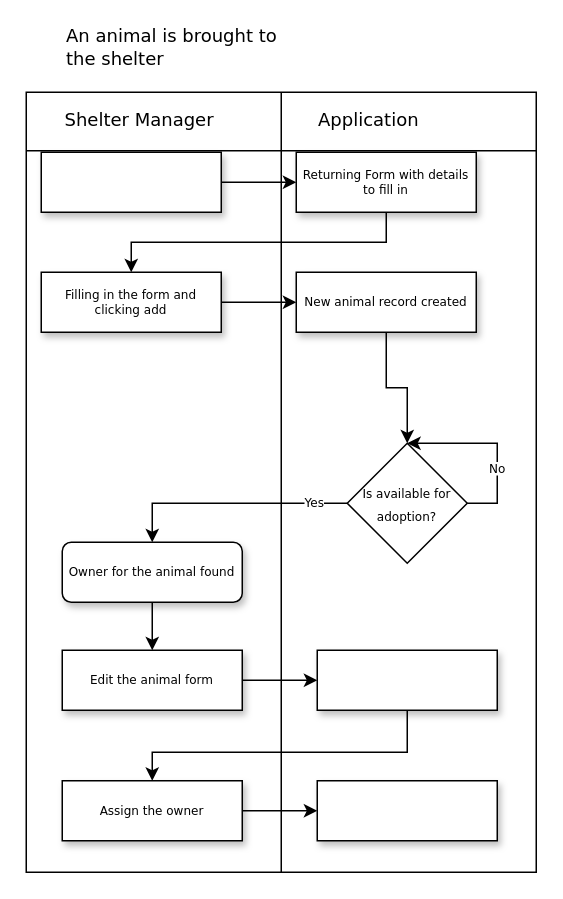
Some shapes in this 563 by 899 pixel diagram are drawn without their labels. The centre of each missing label's shape, as x and y in pixels:
Assign the owner id and set animal to not available for adoption: [408,812]
Pressing "Add Animal" button: [132,184]
Returning the form with details pre-filled: [408,682]
